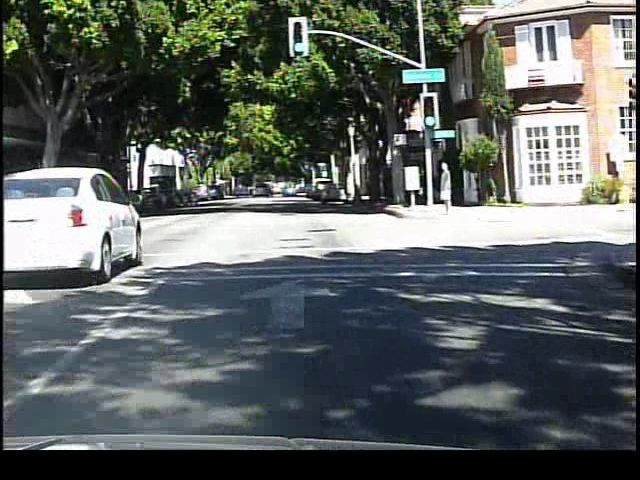person: (435, 158, 457, 218)
